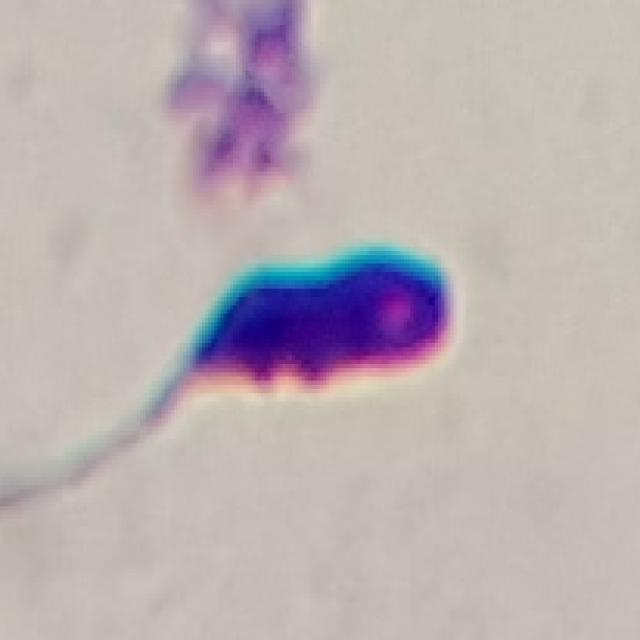abnormal sperm: (0, 238, 450, 460)
